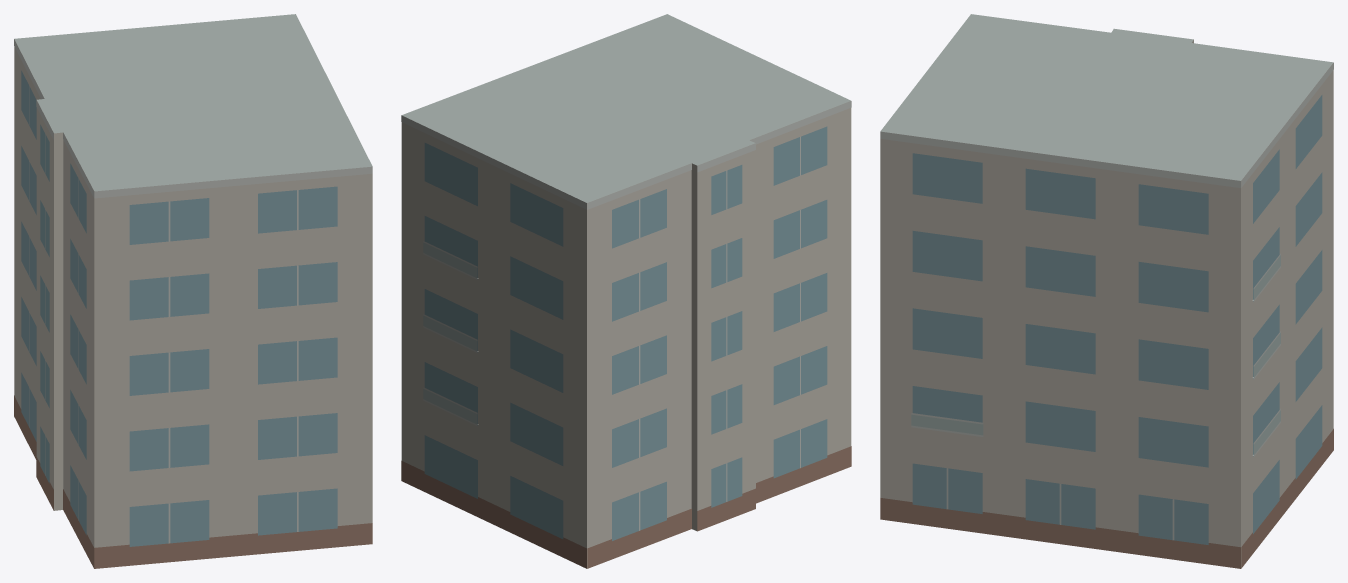
The model's file is survey-upis-32879196.glb.
3 renders of one model, left to right at view 1: azimuth 30°, elevation 25°; view 2: azimuth 150°, elevation 25°; view 3: azimuth 270°, elevation 25°, orthographic. The views are drawn at different scales.
Parts seen in each view (by area): view 1: survey-upis-32879196.tmp; view 2: survey-upis-32879196.tmp; view 3: survey-upis-32879196.tmp.
Boxes of the visible parts, x1=… form: survey-upis-32879196.tmp: x1=14, y1=14, x2=372, y2=568; survey-upis-32879196.tmp: x1=401, y1=14, x2=851, y2=568; survey-upis-32879196.tmp: x1=880, y1=14, x2=1333, y2=568.
Bounding box in the file's own units: 12.1 × 13.1 × 13.89.
